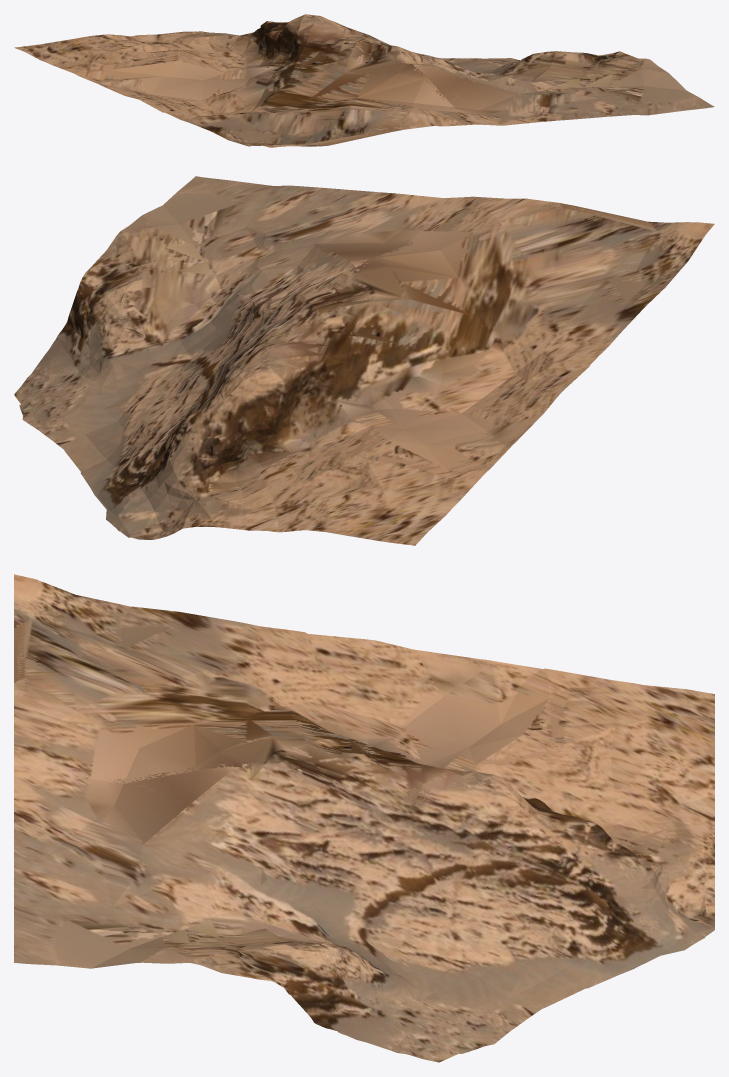
3 views of the same model, one above another, from view 1: azimuth 30°, elevation 25°; view 2: azimuth 150°, elevation 25°; view 3: azimuth 270°, elevation 25° (orthographic). The views are drawn at different scales.
Size of the model in its own units: 2.09 by 0.6318 by 2.09.
Materials: 2 (2 with a texture image).
